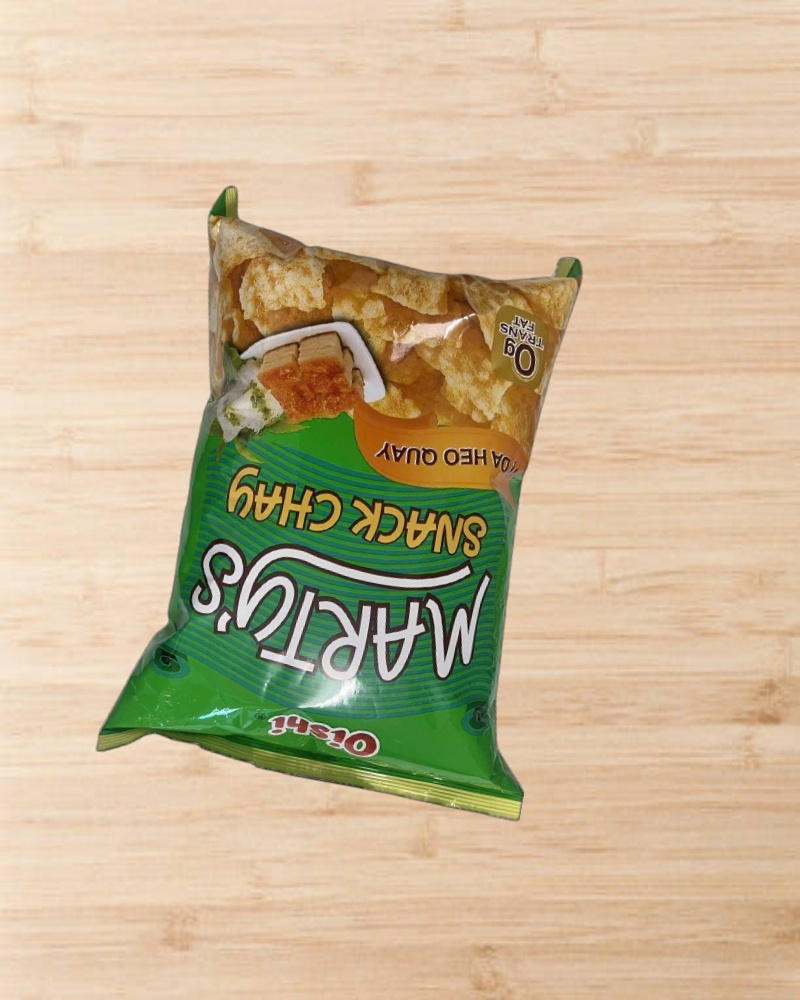Snack chay: (116, 186, 618, 826)
